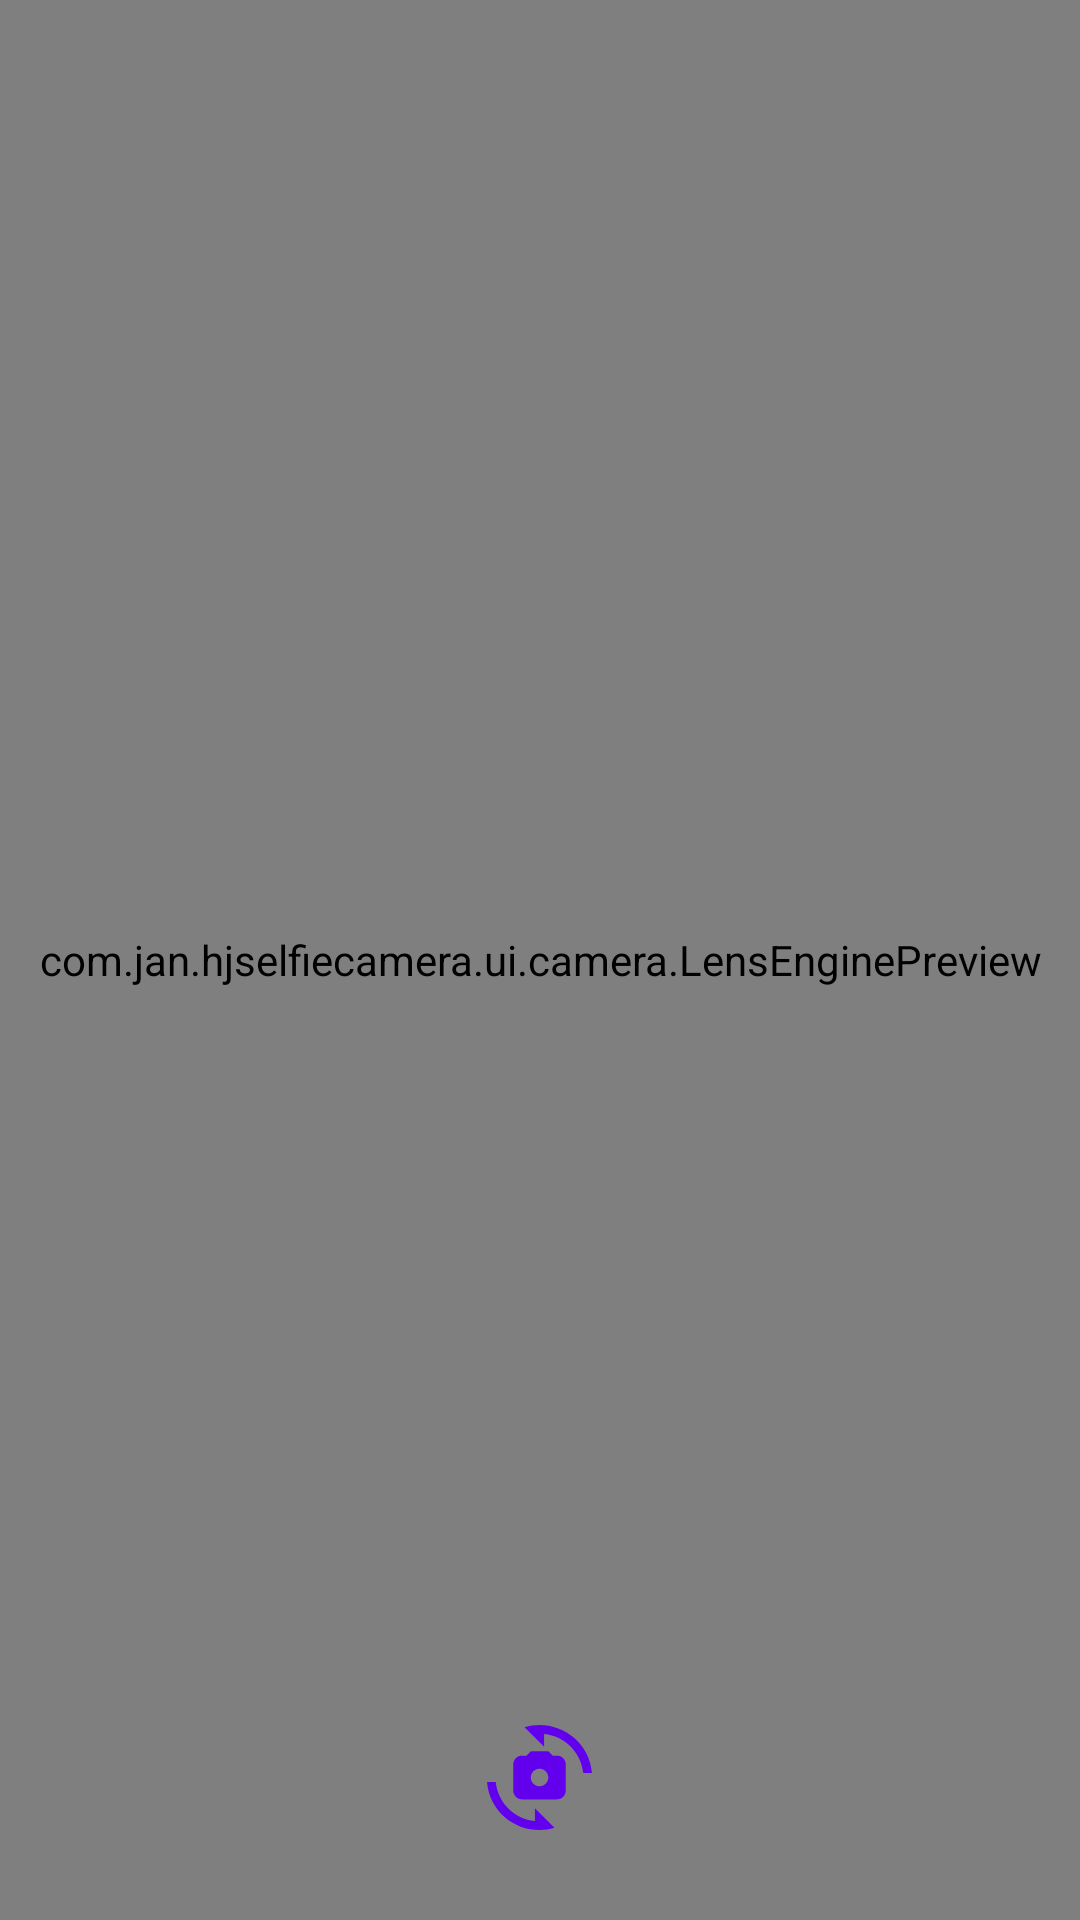

Point at icon controls on the screen. Image size 1080*1920, points as (x=x, y=y).
cameraswitch: (x=539, y=1777)
